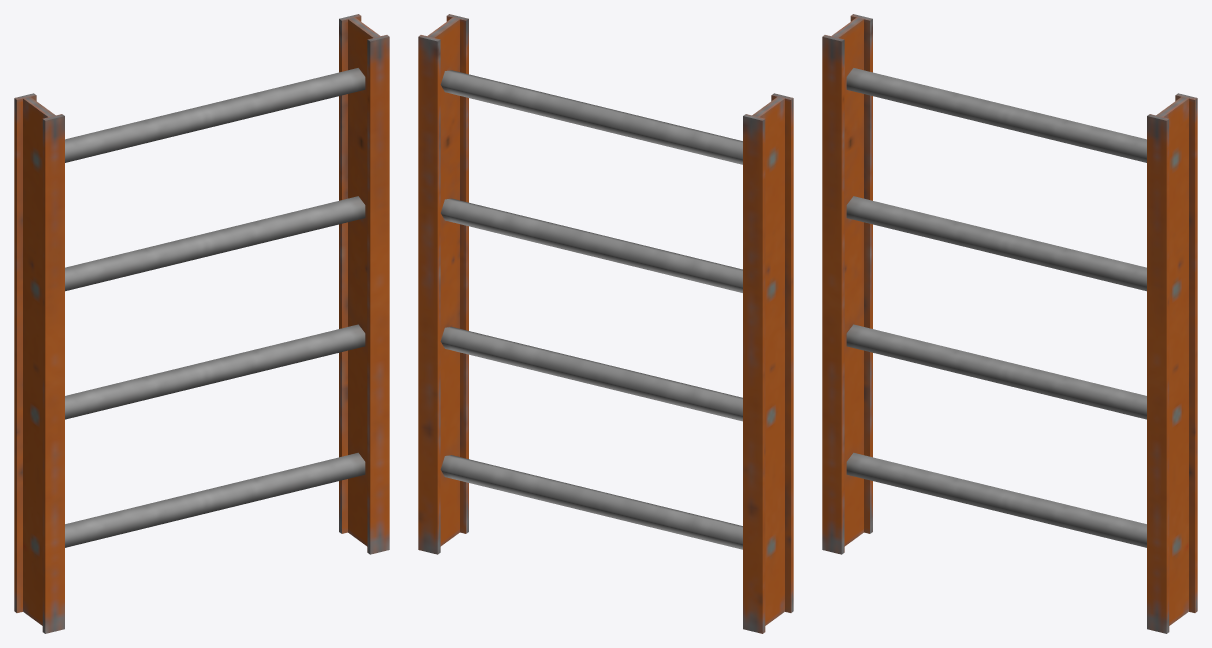
Rendered from LadderSection.fbx.
The picture shows the model from 3 angles, left to right: view 1: azimuth 30°, elevation 25°; view 2: azimuth 150°, elevation 25°; view 3: azimuth 330°, elevation 25°; orthographic projection.
Parts seen in each view (by area): view 1: Ladder_Section_LOD0; view 2: Ladder_Section_LOD0; view 3: Ladder_Section_LOD0.
Boxes of the visible parts, bbox=[...] form: Ladder_Section_LOD0: bbox=[14, 14, 389, 633]; Ladder_Section_LOD0: bbox=[418, 14, 793, 633]; Ladder_Section_LOD0: bbox=[822, 14, 1197, 633].
Size of what is drawn, in the model's own units: 0.7025 by 1 by 0.1097.
